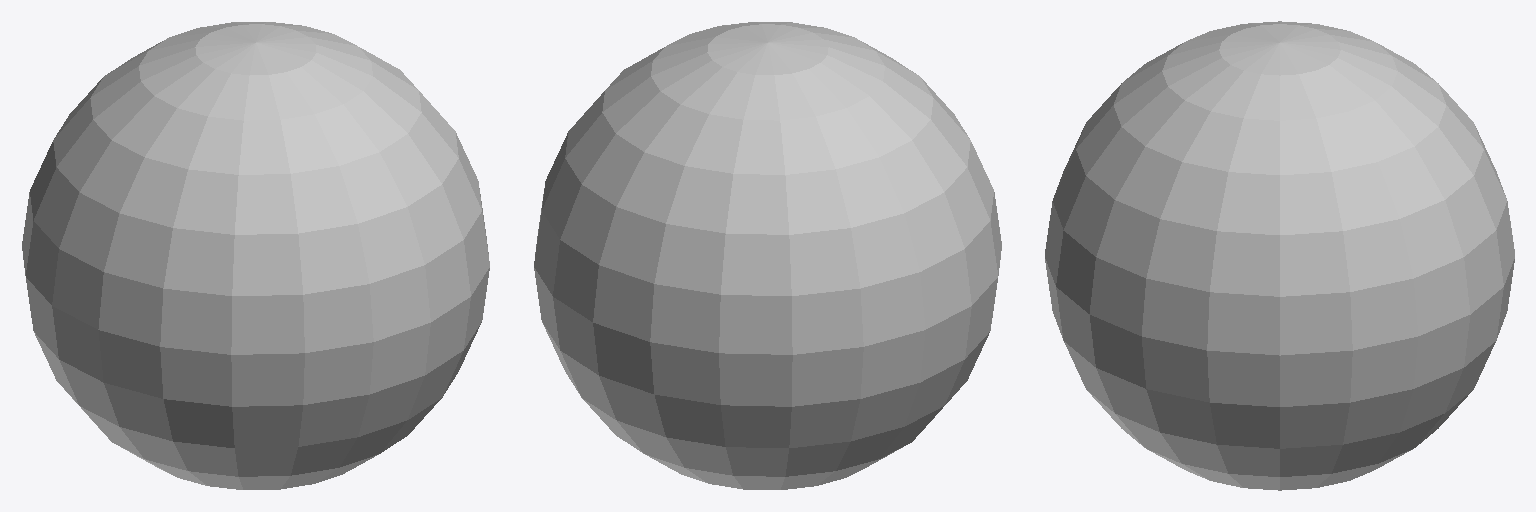
File: SmallShot.obj
3 renders of one model, left to right at view 1: azimuth 30°, elevation 25°; view 2: azimuth 150°, elevation 25°; view 3: azimuth 270°, elevation 25°, orthographic.
Size of the model in its own units: 3.6 by 3.6 by 3.6.